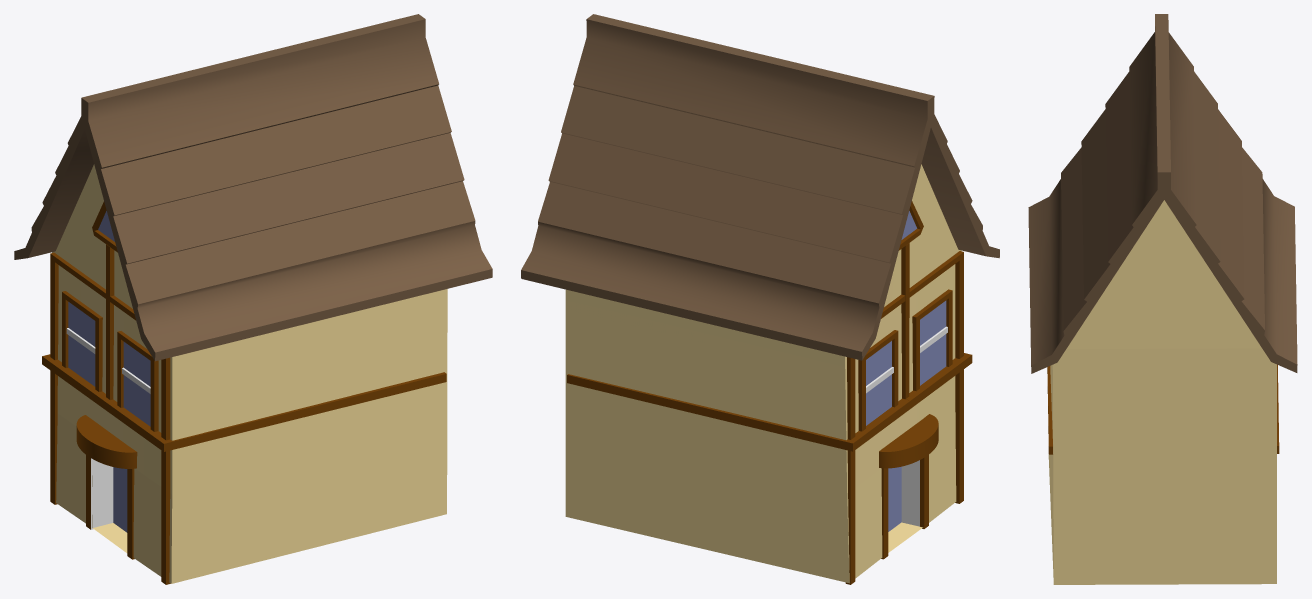
File: House10.fbx
3 renders of one model, left to right at view 1: azimuth 30°, elevation 25°; view 2: azimuth 150°, elevation 25°; view 3: azimuth 270°, elevation 25°, orthographic. The views are drawn at different scales.
Visible parts, largest first — view 1: Default(0CD4E39A-1C14-49E2-9D0A-3FA206261D20), pCube13, Default(818F5165-C2BE-415A-A878-C83004B9BB7F), Default(C6A45520-AD2D-45D1-9ADD-E55D7731D155), 집2, Default(E473BD27-8404-41D8-B424-DA974D7611E9), Default(3F21D01C-4956-446C-9A1E-E0DC1D1DFFC2); view 2: Default(0CD4E39A-1C14-49E2-9D0A-3FA206261D20), pCube13, Default(818F5165-C2BE-415A-A878-C83004B9BB7F), Default(C6A45520-AD2D-45D1-9ADD-E55D7731D155), 집2, Default(E473BD27-8404-41D8-B424-DA974D7611E9), Default(3F21D01C-4956-446C-9A1E-E0DC1D1DFFC2); view 3: pCube13, Default(0CD4E39A-1C14-49E2-9D0A-3FA206261D20), Default(818F5165-C2BE-415A-A878-C83004B9BB7F).
Part boxes in pixels (x1,y1,x2,y2): Default(0CD4E39A-1C14-49E2-9D0A-3FA206261D20): (28, 14, 492, 361); pCube13: (52, 164, 447, 583); Default(818F5165-C2BE-415A-A878-C83004B9BB7F): (42, 201, 446, 584); Default(C6A45520-AD2D-45D1-9ADD-E55D7731D155): (68, 302, 150, 426); 집2: (14, 98, 155, 360); Default(E473BD27-8404-41D8-B424-DA974D7611E9): (66, 328, 150, 529); Default(3F21D01C-4956-446C-9A1E-E0DC1D1DFFC2): (113, 467, 127, 532); Default(0CD4E39A-1C14-49E2-9D0A-3FA206261D20): (521, 14, 985, 360); pCube13: (565, 164, 961, 583); Default(818F5165-C2BE-415A-A878-C83004B9BB7F): (567, 201, 972, 584); Default(C6A45520-AD2D-45D1-9ADD-E55D7731D155): (866, 300, 946, 425); 집2: (862, 96, 999, 359); Default(E473BD27-8404-41D8-B424-DA974D7611E9): (866, 326, 947, 526); Default(3F21D01C-4956-446C-9A1E-E0DC1D1DFFC2): (888, 466, 901, 531); pCube13: (1048, 200, 1276, 584); Default(0CD4E39A-1C14-49E2-9D0A-3FA206261D20): (1028, 14, 1297, 373); Default(818F5165-C2BE-415A-A878-C83004B9BB7F): (1047, 364, 1279, 454).
Size of the model in its own units: 98.94 by 125 by 70.75.
